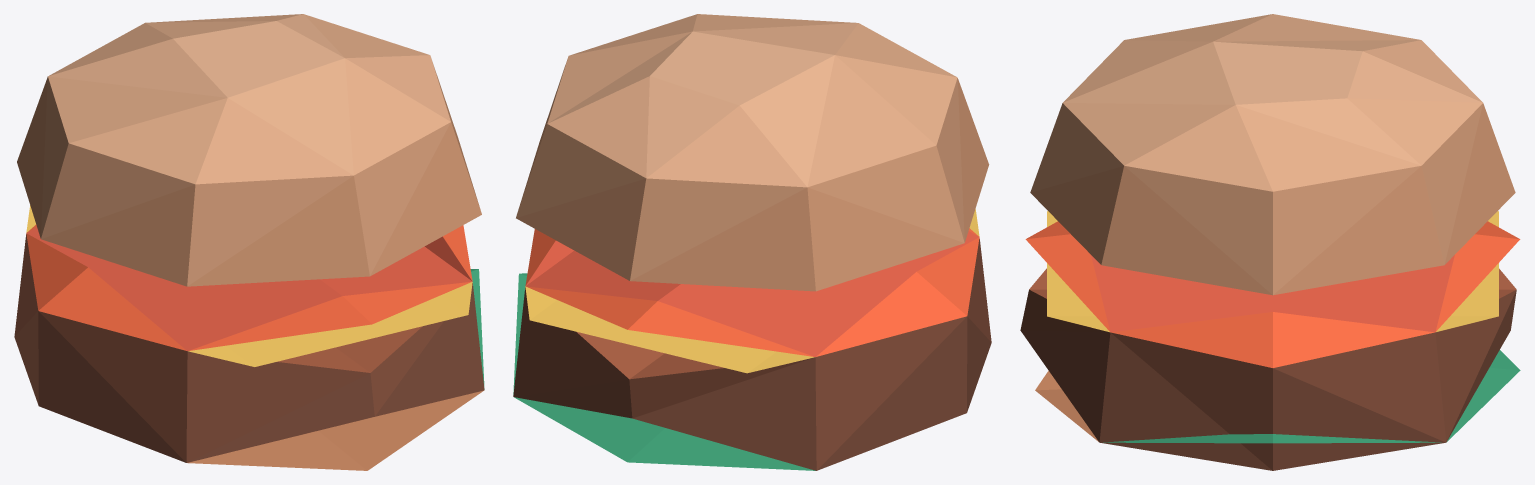
Rendered from burger_vita.obj.
The picture shows the model from 3 angles, left to right: view 1: azimuth 30°, elevation 25°; view 2: azimuth 150°, elevation 25°; view 3: azimuth 270°, elevation 25°; orthographic projection.
Bounding box in the file's own units: 0.3879 × 0.27 × 0.3784.
Materials: 1 (1 with a texture image).
